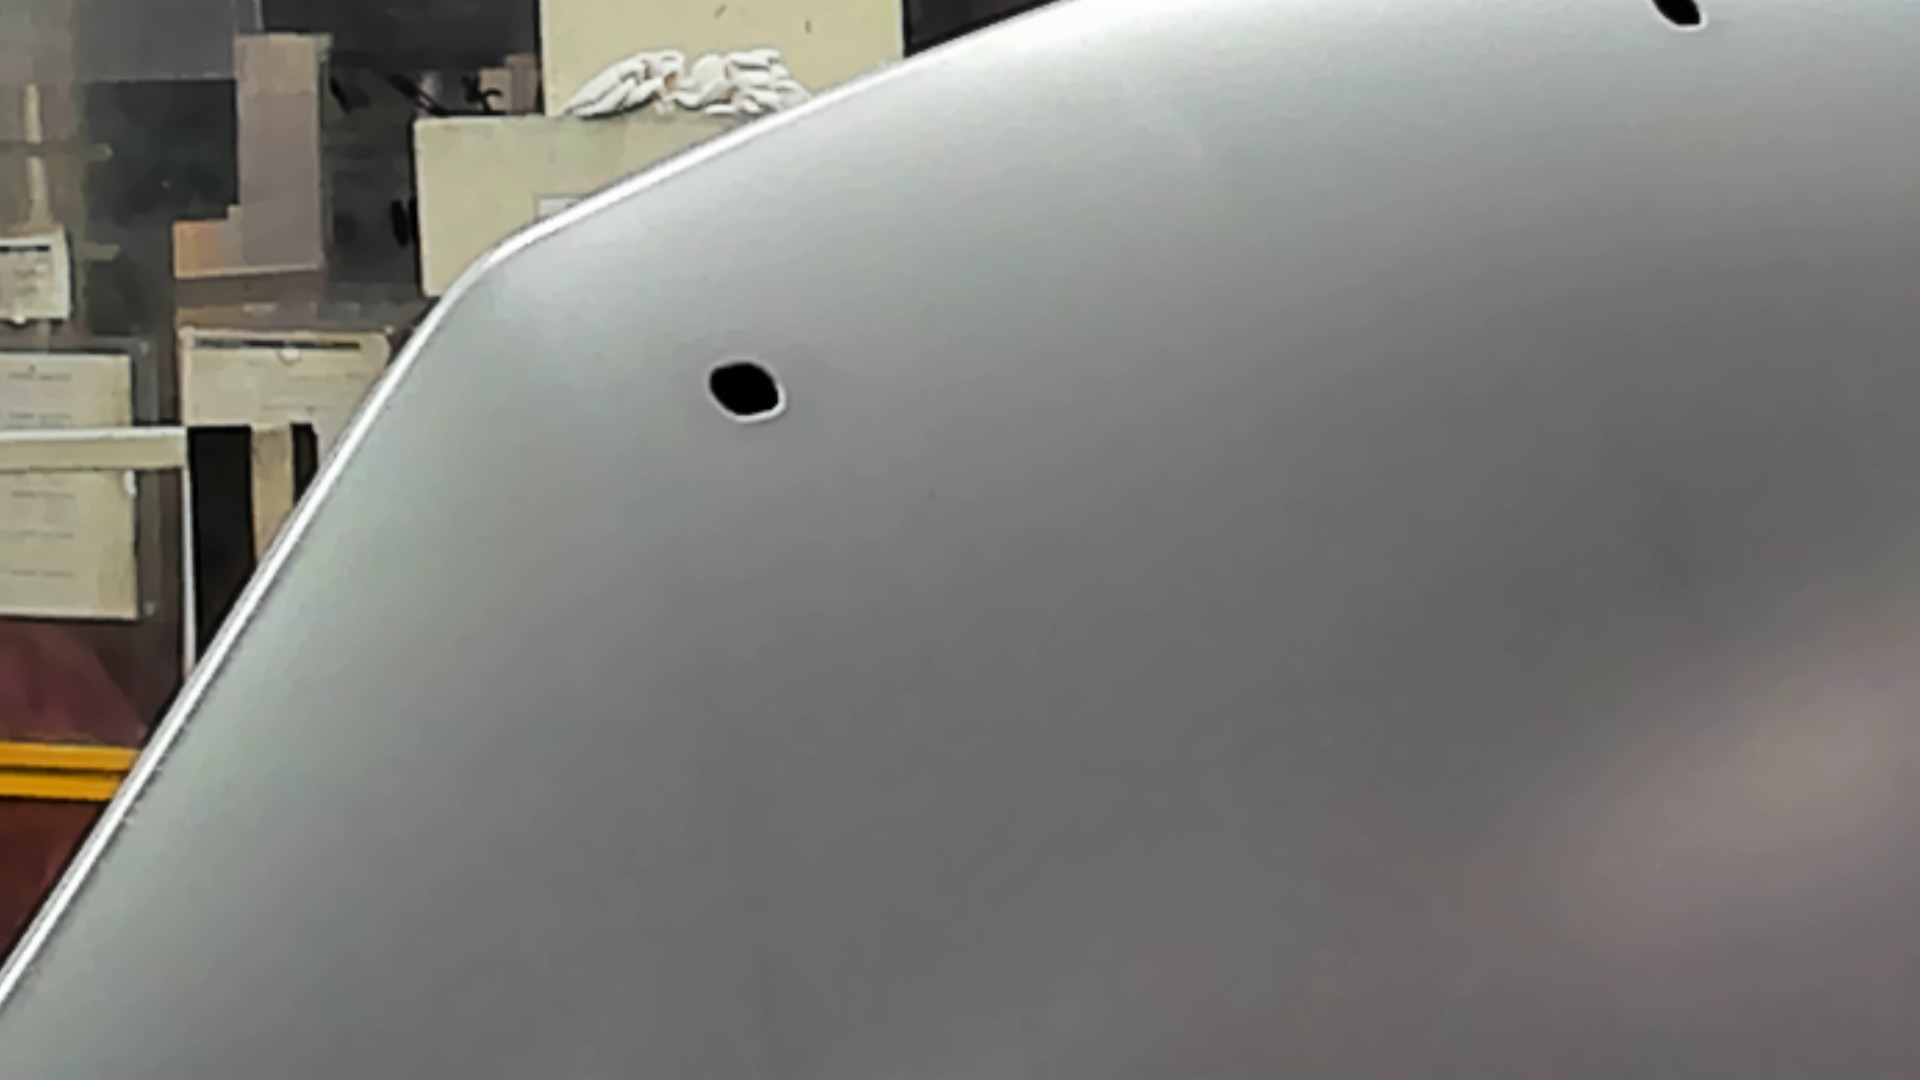amorfo: (702, 353, 796, 429), (1636, 1, 1714, 32)
capo: (898, 94, 1920, 1080)
